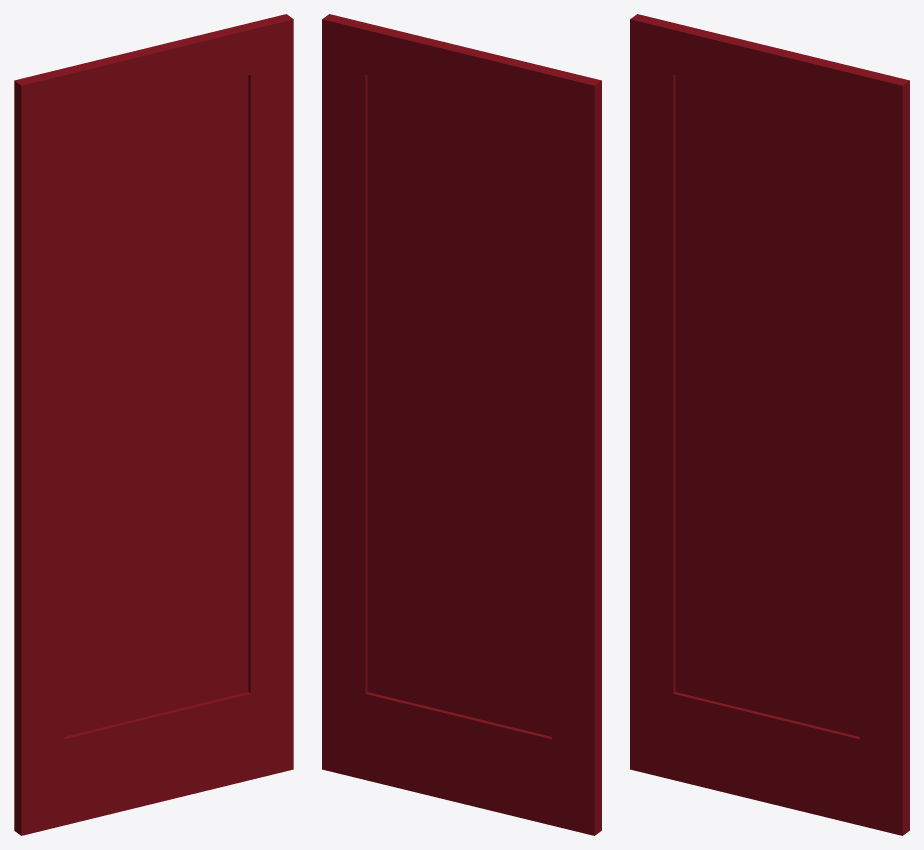
File: SimpleDoorSwing_201.fbx
3 views of the same model, side by side, from view 1: azimuth 30°, elevation 25°; view 2: azimuth 150°, elevation 25°; view 3: azimuth 330°, elevation 25° (orthographic).
Visible parts, largest first — view 1: DoorSwing_01; view 2: DoorSwing_01; view 3: DoorSwing_01.
Boxes of the visible parts, x1,y1,x2,y2 form: DoorSwing_01: (14, 14, 293, 835); DoorSwing_01: (322, 14, 601, 835); DoorSwing_01: (630, 14, 909, 835).
Bounding box in the file's own units: 29.92 × 1.38 × 78.74.
